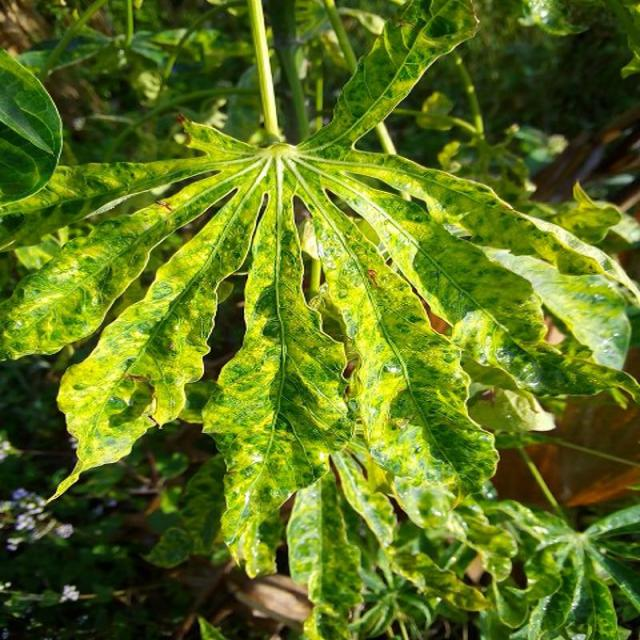cassava leaf: (2, 0, 640, 634)
